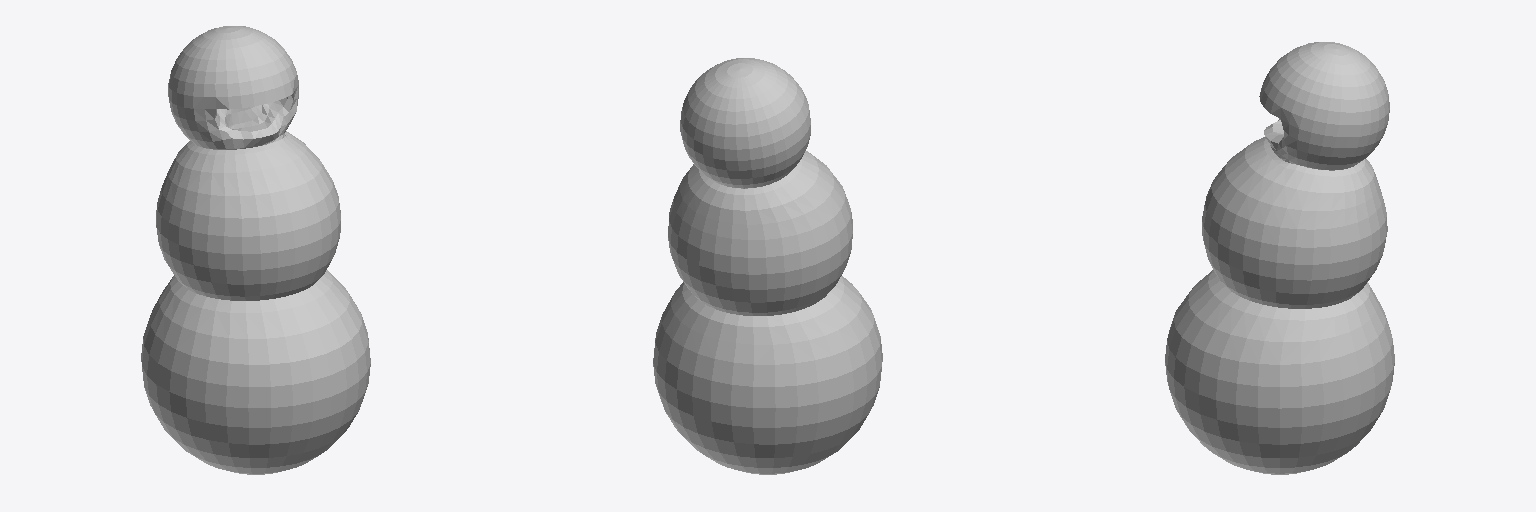
Rendered from morbid_snowmen1.obj.
3 renders of one model, left to right at view 1: azimuth 30°, elevation 25°; view 2: azimuth 150°, elevation 25°; view 3: azimuth 270°, elevation 25°, orthographic.
Visible parts, largest first — view 1: Sphere_Sphere.004; view 2: Sphere_Sphere.004; view 3: Sphere_Sphere.004.
Boxes of the visible parts, x1,y1,x2,y2 form: Sphere_Sphere.004: [141, 26, 370, 474]; Sphere_Sphere.004: [653, 58, 882, 474]; Sphere_Sphere.004: [1165, 42, 1394, 474].
Bounding box in the file's own units: 0.1662 × 0.3317 × 0.1662.